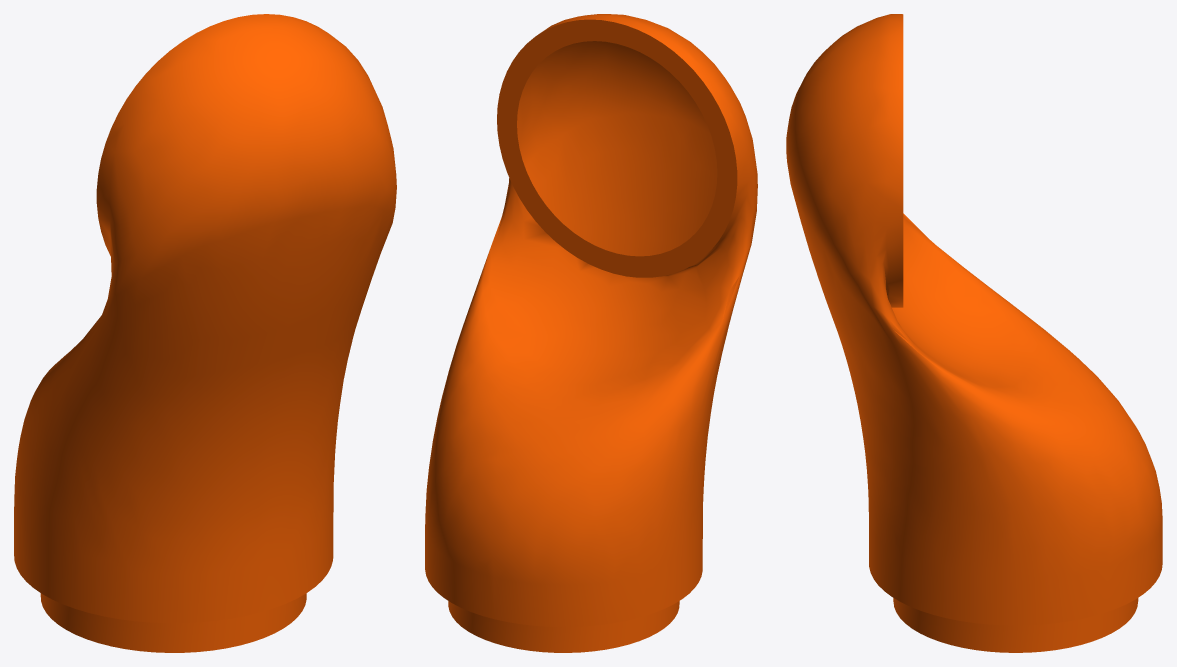
The picture shows the model from 3 angles, left to right: view 1: azimuth 30°, elevation 25°; view 2: azimuth 150°, elevation 25°; view 3: azimuth 270°, elevation 25°; orthographic projection. The views are drawn at different scales.
Parts seen in each view (by area): view 1: link5_object.006; view 2: link5_object.006; view 3: link5_object.006.
Part boxes in pixels (x1,y1,x2,y2): link5_object.006: (14,14,396,652); link5_object.006: (425,14,757,652); link5_object.006: (786,14,1162,652).
Size of the model in its own units: 0.12 by 0.2585 by 0.1538.
